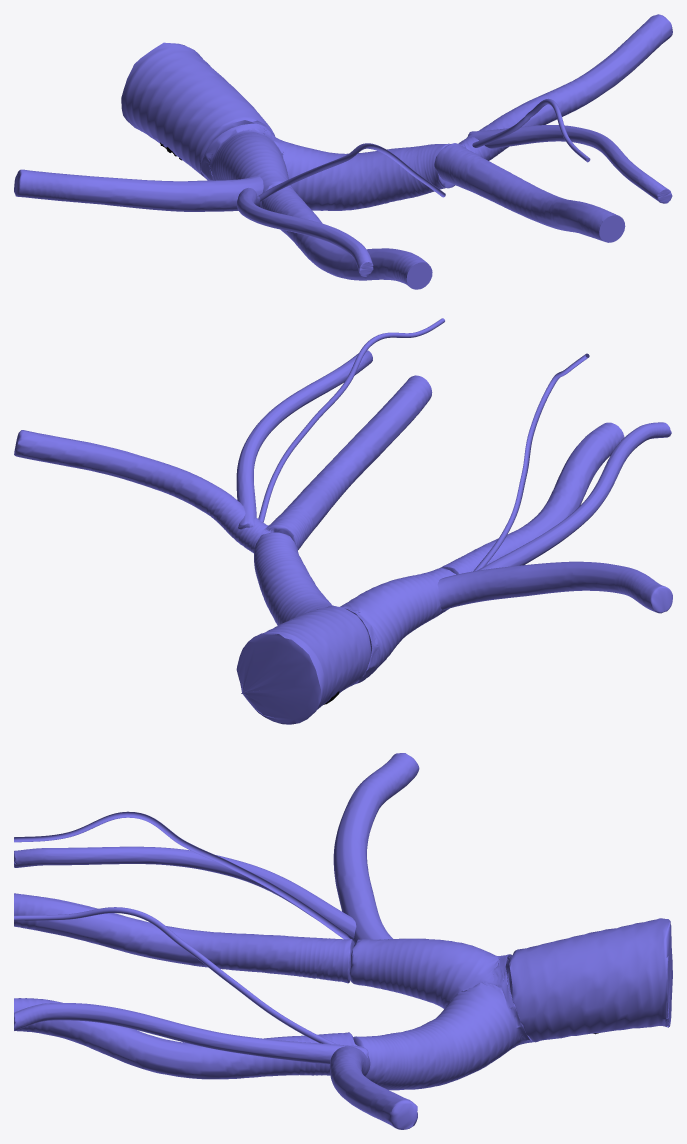
File: SVC-model.glb
3 renders of one model, top to bottom at view 1: azimuth 30°, elevation 25°; view 2: azimuth 150°, elevation 25°; view 3: azimuth 270°, elevation 25°, orthographic. The views are drawn at different scales.
Visible parts, largest first — view 1: newsvc (×8); view 2: newsvc (×8); view 3: newsvc (×8).
Part boxes in pixels (bbox=[...]): newsvc (×8): bbox=[14, 14, 672, 289]; newsvc (×8): bbox=[14, 318, 672, 724]; newsvc (×8): bbox=[14, 753, 672, 1129].
Size of the model in its own units: 0.189 by 0.0533 by 0.1479.
